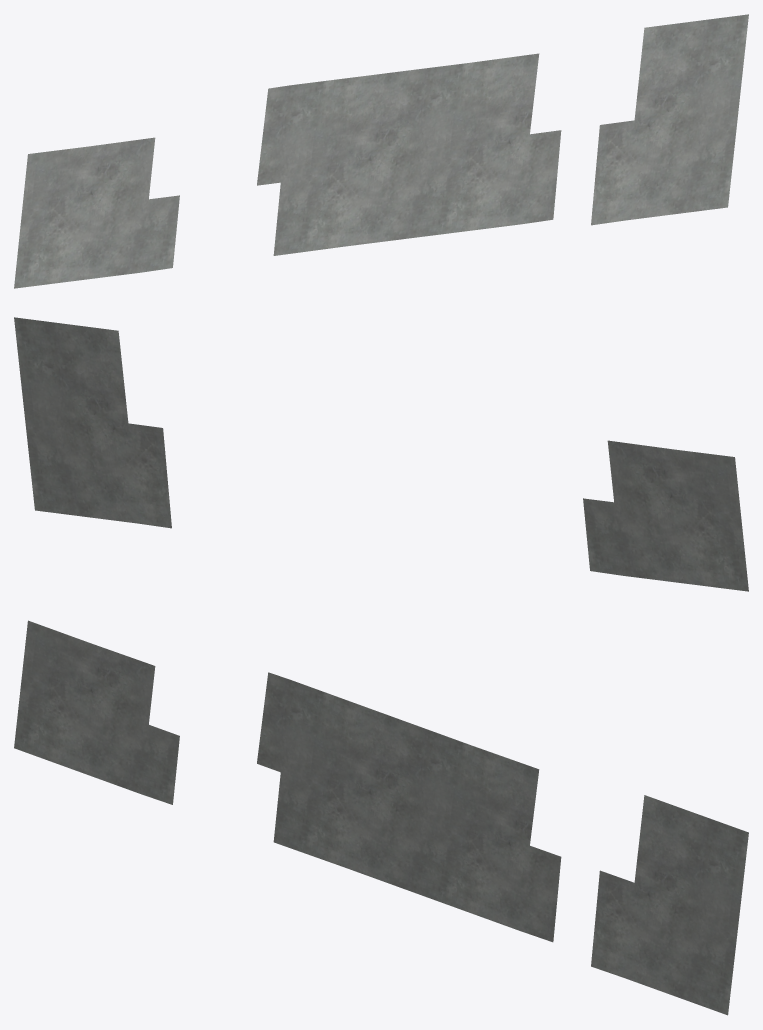
The model's file is data21.glb.
The picture shows the model from 3 angles, top to bottom: view 1: azimuth 30°, elevation 25°; view 2: azimuth 150°, elevation 25°; view 3: azimuth 330°, elevation 25°; orthographic projection.
Parts seen in each view (by area): view 1: data21; view 2: data21; view 3: data21.
Part boxes in pixels (bbox=[...]): data21: bbox=[14, 14, 748, 288]; data21: bbox=[14, 317, 748, 591]; data21: bbox=[14, 620, 748, 1015].
Bounding box in the file's own units: 52.4 × 15.74 × 9.92e-05.
1 material, 1 textured.
